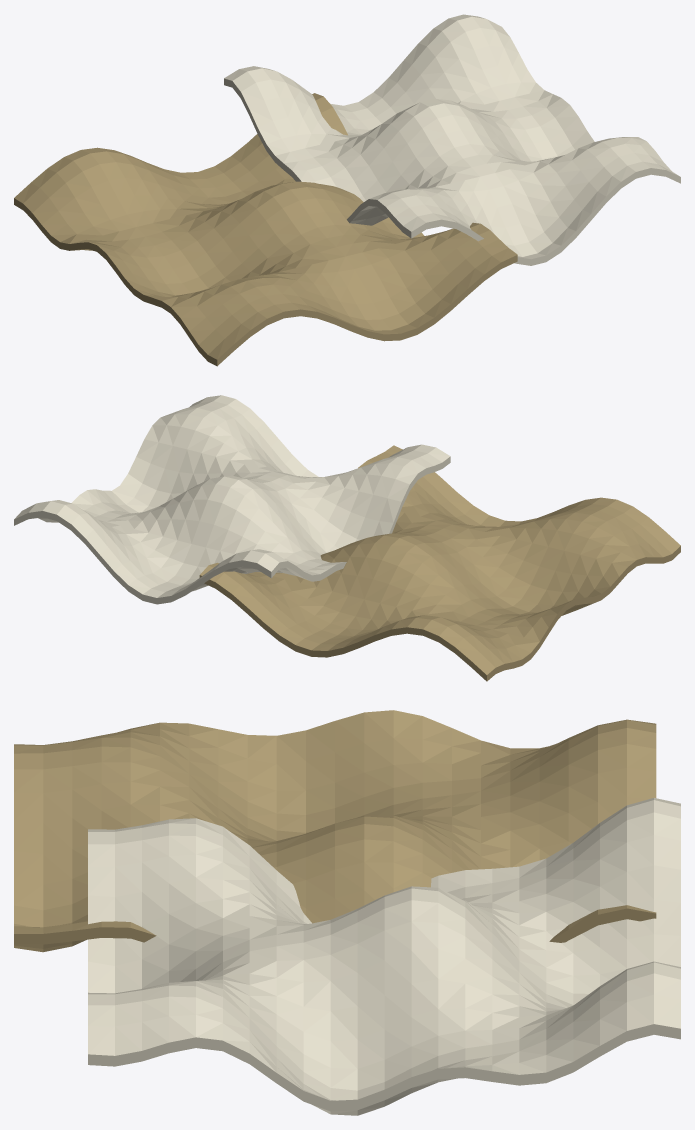
The model's file is asset.fbx.
3 renders of one model, top to bottom at view 1: azimuth 30°, elevation 25°; view 2: azimuth 150°, elevation 25°; view 3: azimuth 270°, elevation 25°, orthographic. The views are drawn at different scales.
Visible parts, largest first — view 1: radcare_used_swabs_crumpled_swab_a, radcare_used_swabs_crumpled_swab_b; view 2: radcare_used_swabs_crumpled_swab_a, radcare_used_swabs_crumpled_swab_b; view 3: radcare_used_swabs_crumpled_swab_b, radcare_used_swabs_crumpled_swab_a.
Part boxes in pixels (x1,y1,x2,y2): radcare_used_swabs_crumpled_swab_a: [14, 93, 517, 366]; radcare_used_swabs_crumpled_swab_b: [224, 14, 680, 265]; radcare_used_swabs_crumpled_swab_a: [199, 445, 680, 681]; radcare_used_swabs_crumpled_swab_b: [14, 395, 450, 604]; radcare_used_swabs_crumpled_swab_b: [88, 798, 680, 1115]; radcare_used_swabs_crumpled_swab_a: [14, 710, 656, 952].
Bounding box in the file's own units: 0.1 × 0.022 × 0.075.
